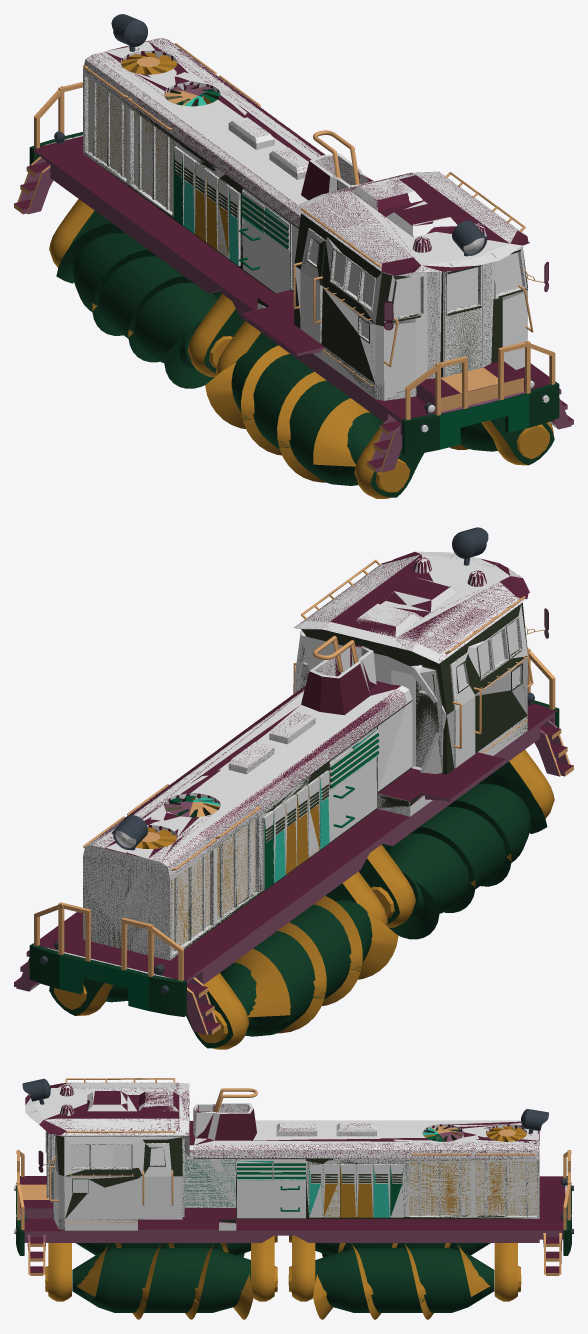
Rendered from ShnekokhodShakalV2.fbx.
The picture shows the model from 3 angles, top to bottom: view 1: azimuth 30°, elevation 25°; view 2: azimuth 150°, elevation 25°; view 3: azimuth 270°, elevation 25°; orthographic projection. The views are drawn at different scales.
Parts seen in each view (by area): view 1: Шнеки.001, Корпус.001, Корпус.006, Корпус.002, Корпус.005, Корпус.003, Корпус.004, Бампер передний, Cube.001, Фонарь задний, Цилиндр.001, Цилиндр (+4 smaller); view 2: Шнеки.001, Корпус.001, Корпус.006, Корпус.002, Корпус.005, Корпус.003, Корпус.004, Бампер задний, Cube, Фонарь передний, Цилиндр, Фонарь задний; view 3: Шнеки.001, Корпус.001, Корпус.006, Корпус.002, Корпус.005, Корпус.004, Корпус.003, Cube, Фонарь передний, КриваяБезье.007, Цилиндр, Цилиндр.001 (+4 smaller).
Boxes of the visible parts, box(x1,y1,x2,y2) form: Шнеки.001: box(49, 199, 554, 498); Корпус.001: box(31, 70, 556, 427); Корпус.006: box(83, 38, 526, 276); Корпус.002: box(48, 75, 555, 426); Корпус.005: box(83, 38, 529, 275); Корпус.003: box(14, 136, 573, 468); Корпус.004: box(14, 149, 573, 472); Бампер передний: box(402, 382, 559, 455); Cube.001: box(405, 341, 555, 419); Фонарь задний: box(111, 14, 147, 51); Цилиндр.001: box(121, 53, 176, 74); Цилиндр: box(164, 85, 220, 106); Шнеки.001: box(49, 749, 554, 1049); Корпус.001: box(29, 554, 527, 991); Корпус.006: box(86, 551, 526, 876); Корпус.002: box(33, 557, 527, 987); Корпус.005: box(86, 551, 529, 875); Корпус.003: box(14, 703, 573, 1030); Корпус.004: box(14, 710, 573, 1034); Бампер задний: box(29, 943, 186, 1016); Cube: box(34, 902, 183, 981); Фонарь передний: box(452, 527, 488, 565); Цилиндр: box(164, 796, 220, 817); Фонарь задний: box(111, 815, 147, 850); Шнеки.001: box(45, 1235, 521, 1319); Корпус.001: box(28, 1097, 566, 1230); Корпус.006: box(25, 1082, 539, 1158); Корпус.002: box(35, 1109, 566, 1229); Корпус.005: box(25, 1082, 539, 1158); Корпус.004: box(20, 1184, 563, 1275); Корпус.003: box(20, 1176, 565, 1272); Cube: box(563, 1150, 571, 1229); Фонарь передний: box(22, 1078, 50, 1104); КриваяБезье.007: box(65, 1078, 175, 1133); Цилиндр: box(423, 1126, 463, 1141); Цилиндр.001: box(486, 1126, 526, 1141).
Size of the model in its own units: 950 by 1123 by 2694.
